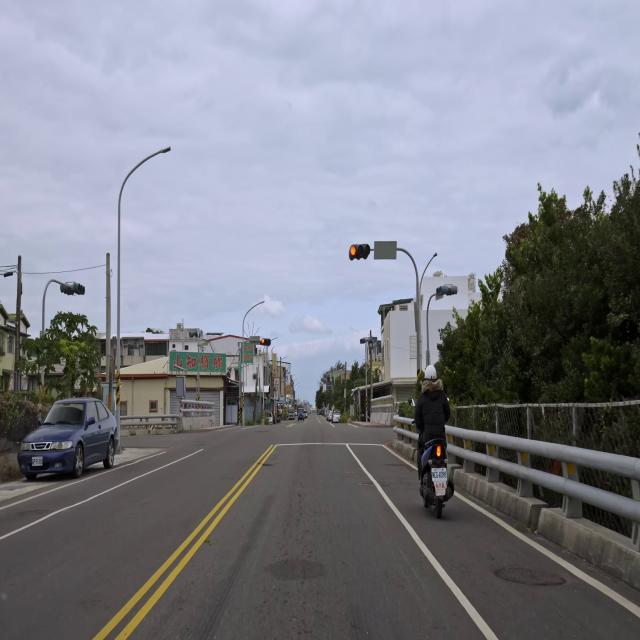red light: (348, 243, 370, 260), (261, 338, 271, 346)
